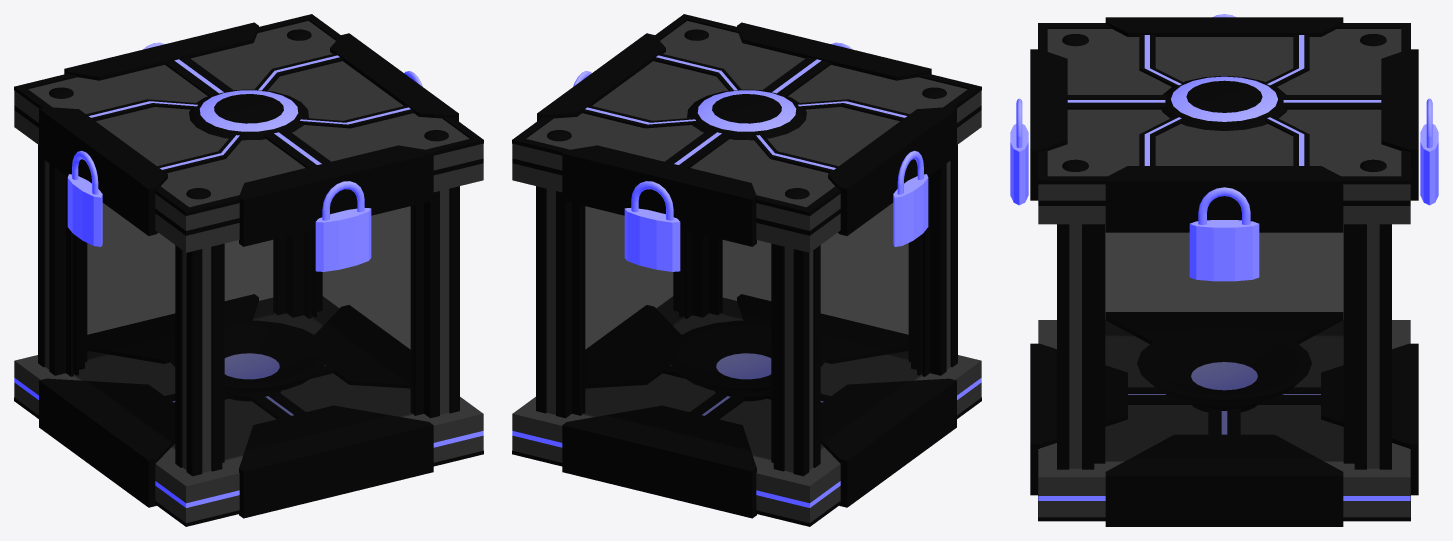
Rendered from unmovable box ver2.fbx.
3 views of the same model, side by side, from view 1: azimuth 30°, elevation 25°; view 2: azimuth 150°, elevation 25°; view 3: azimuth 270°, elevation 25° (orthographic). The views are drawn at different scales.
Parts seen in each view (by area): view 1: main_ita, glass1, glass4, kazari25, glass3, kazari30, kazari1, hashira1, hashira2, glass2, hashira4, kazari31 (+17 smaller); view 2: main_ita, glass3, glass4, kazari28, glass1, kazari30, kazari29, hashira4, hashira3, glass2, hashira1, kazari31 (+17 smaller); view 3: main_ita, glass2, kazari26, glass4, kazari27, hashira2, hashira3, sara2, lock1 (×3), kazari24, kazari25, kazari28 (+13 smaller).
Boxes of the visible parts, x1,y1,x2,y2 form: main_ita: (14, 21, 483, 522); glass1: (224, 205, 413, 459); glass4: (73, 203, 175, 449); kazari25: (239, 391, 433, 518); glass3: (87, 203, 275, 358); kazari30: (39, 378, 229, 507); kazari1: (239, 145, 433, 246); hashira1: (175, 243, 224, 476); hashira2: (410, 186, 459, 418); glass2: (312, 207, 410, 383); hashira4: (38, 144, 87, 376); kazari31: (39, 107, 167, 235); main_ita: (512, 21, 981, 522); glass3: (582, 205, 771, 459); glass4: (820, 203, 922, 449); kazari28: (562, 391, 756, 518); glass1: (720, 203, 908, 358); kazari30: (766, 378, 956, 507); kazari29: (562, 145, 756, 246); hashira4: (771, 243, 820, 476); hashira3: (536, 186, 585, 418); glass2: (585, 207, 683, 383); hashira1: (908, 144, 957, 376); kazari31: (828, 107, 956, 235); main_ita: (1038, 29, 1410, 517); glass2: (1105, 225, 1343, 461); kazari26: (1105, 408, 1343, 526); glass4: (1105, 233, 1343, 335); kazari27: (1105, 166, 1343, 232); hashira2: (1057, 224, 1105, 469); hashira3: (1343, 224, 1391, 469); sara2: (1137, 326, 1311, 412); lock1 (×3): (1010, 124, 1438, 281); kazari24: (1161, 76, 1287, 130); kazari25: (1030, 343, 1191, 495); kazari28: (1257, 343, 1418, 495).
Bounding box in the file's own units: 11.51 × 10.5 × 11.51.
